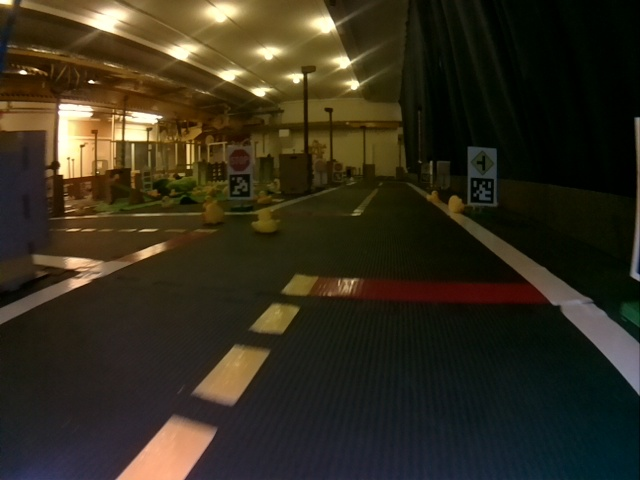Duckie: (252, 209, 278, 233), (201, 202, 224, 223), (449, 195, 464, 213), (427, 191, 439, 202)
Intersection sign: (471, 150, 494, 174)
QR code: (470, 177, 495, 204), (229, 176, 250, 197)
Stop sign: (228, 149, 251, 170)
